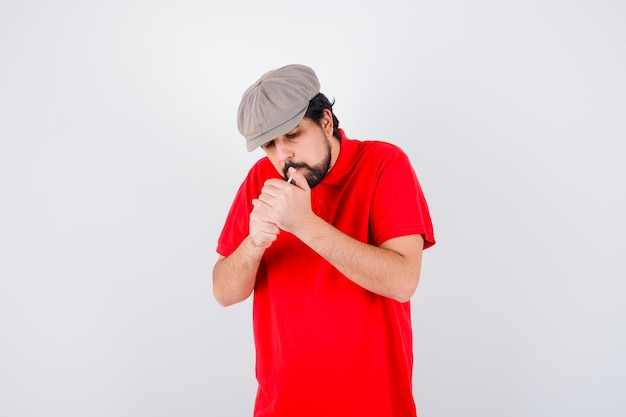cigarette: (283, 174, 297, 184)
